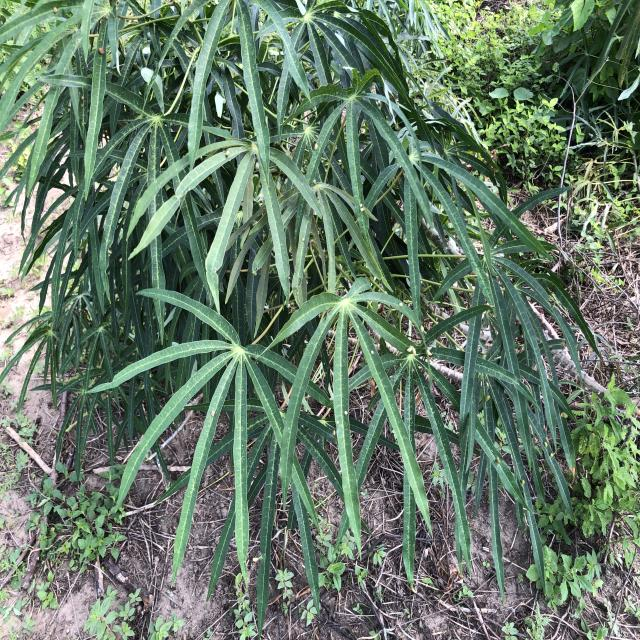Mosca: (397, 309, 445, 374), (214, 145, 238, 168), (365, 339, 388, 360), (360, 195, 374, 222), (339, 405, 352, 431), (312, 140, 329, 154)
